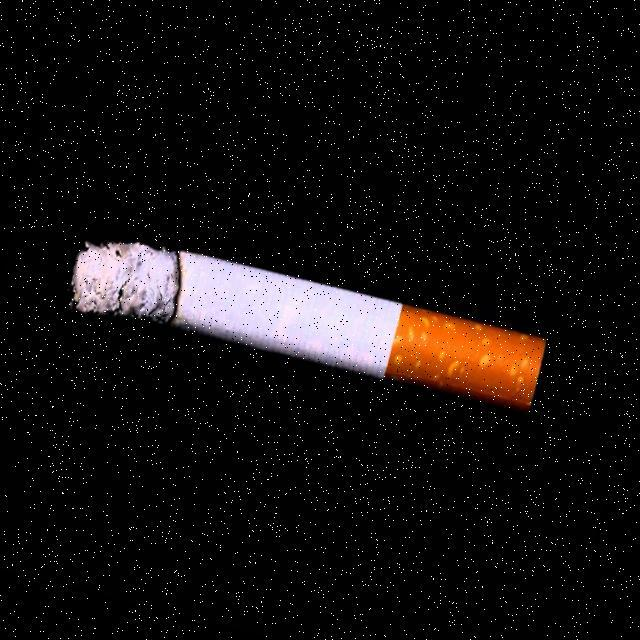cigarette: (56, 215, 553, 432)
